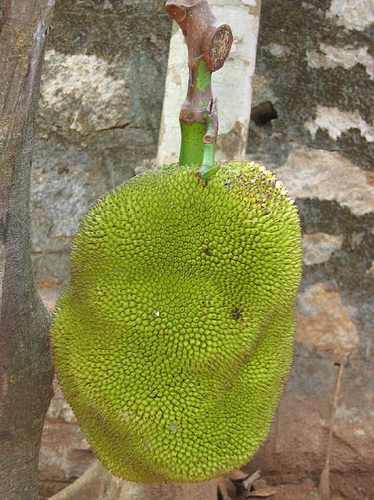jackfruit: (46, 0, 305, 488)
